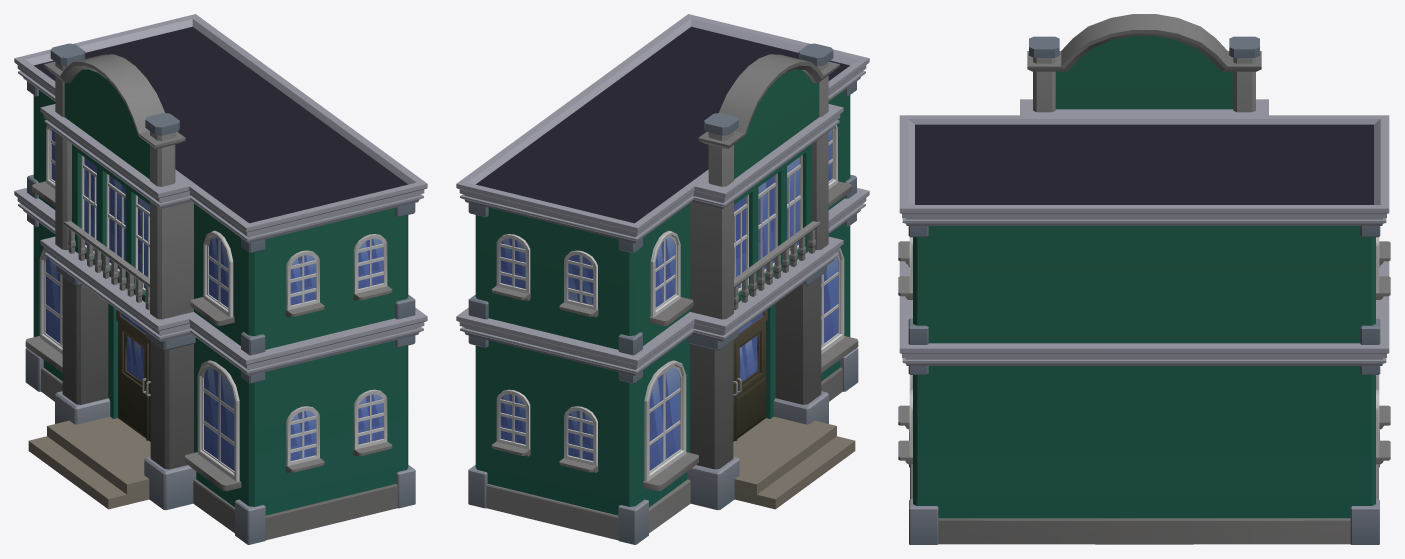
The model's file is Building_24_F.glb.
The picture shows the model from 3 angles, left to right: view 1: azimuth 30°, elevation 25°; view 2: azimuth 150°, elevation 25°; view 3: azimuth 270°, elevation 25°; orthographic projection. The views are drawn at different scales.
Visible parts, largest first — view 1: Building_24_F; view 2: Building_24_F; view 3: Building_24_F.
Boxes of the visible parts, x1,y1,x2,y2 form: Building_24_F: (14, 14, 427, 544); Building_24_F: (456, 14, 869, 544); Building_24_F: (898, 14, 1390, 544).
Bounding box in the file's own units: 5.35 × 8.47 × 8.88.
3 materials, 3 textured.
